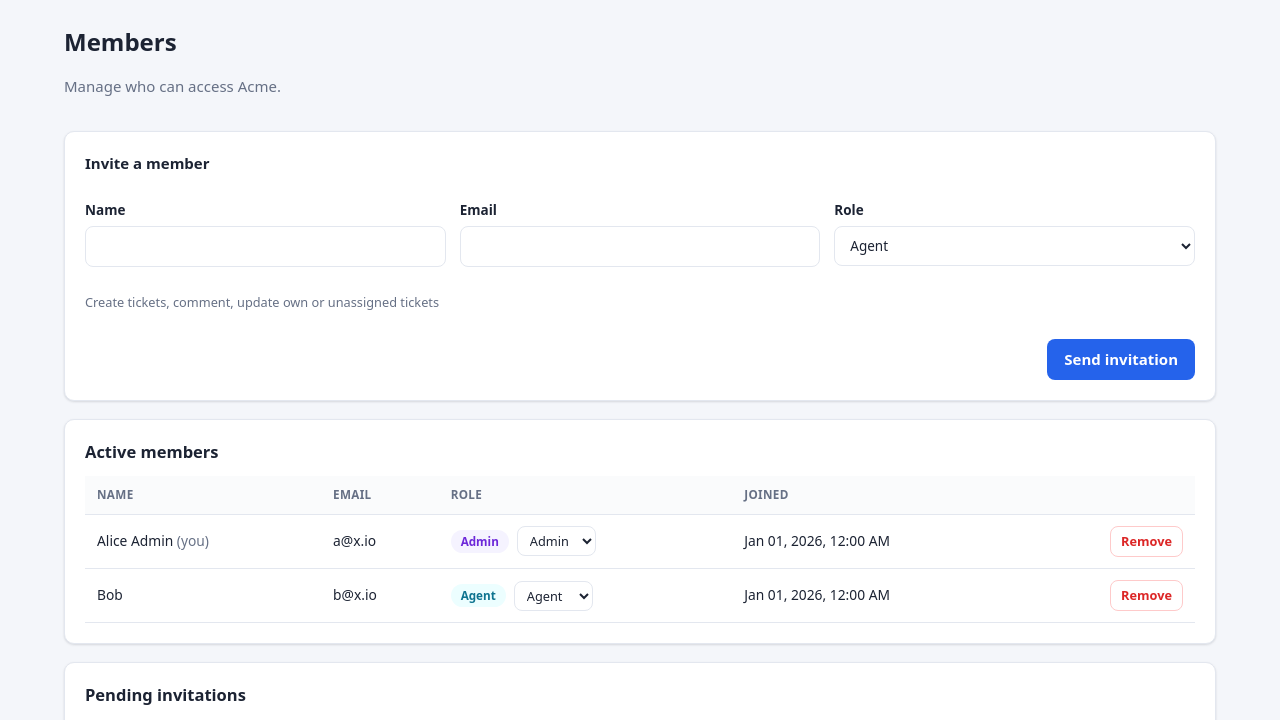
Scenario: Members page › removes a member only after confirmation, warning when removing yourself
Click the button "Remove" in the row of "Alice Admin" at [1147, 541], box [1110,526,1183,557]
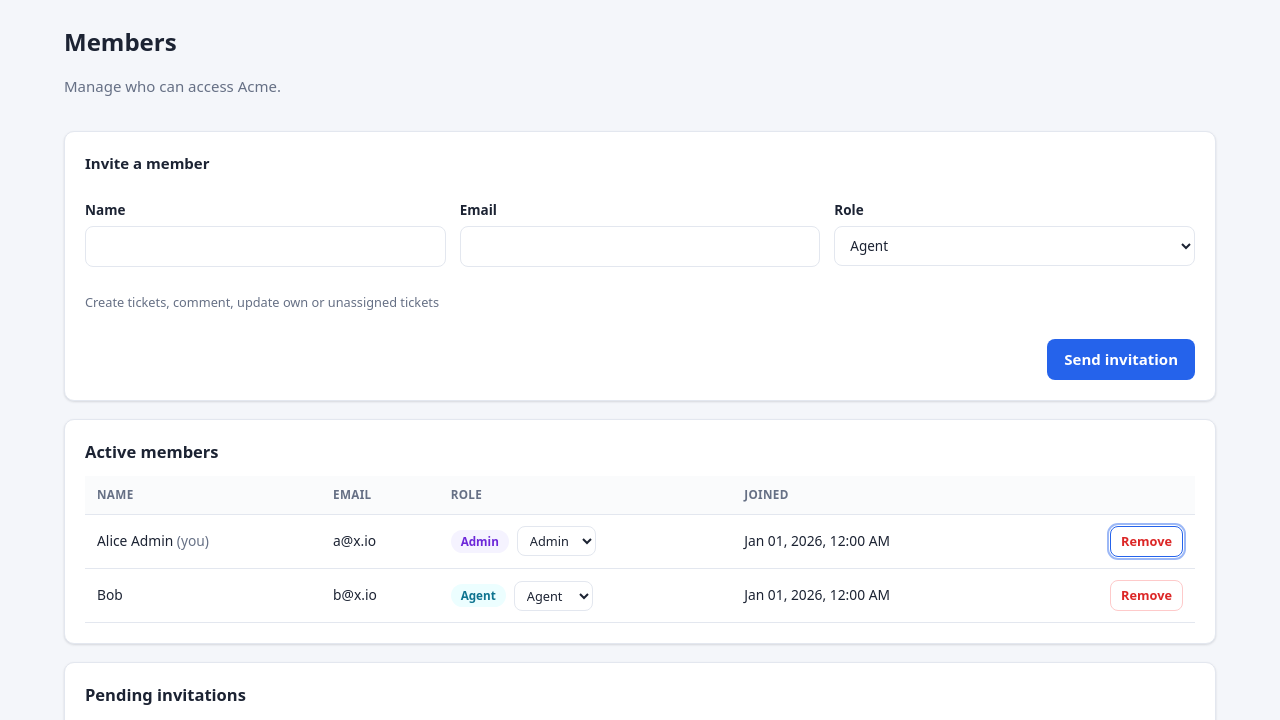
Click the button "Remove" in the row of "Bob" at [1147, 596], box [1110,580,1183,611]
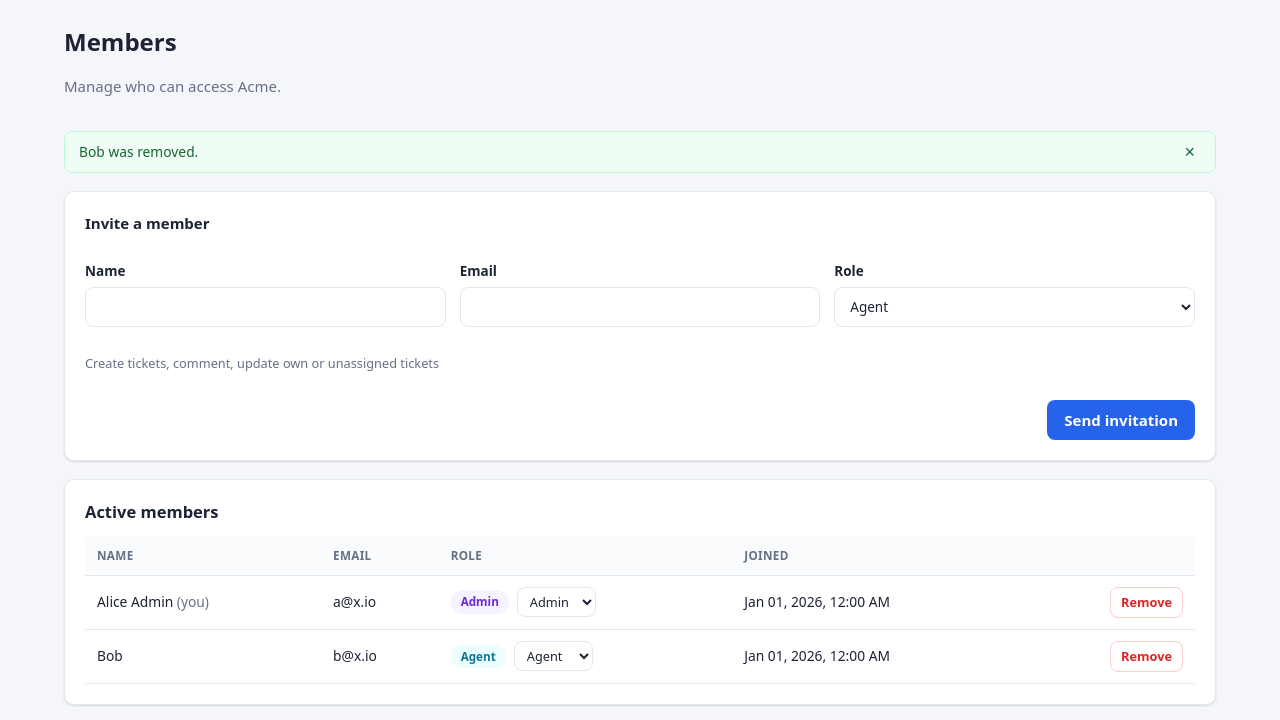
Expected: the text "Bob was removed." is shown, [79,142,198,162]
